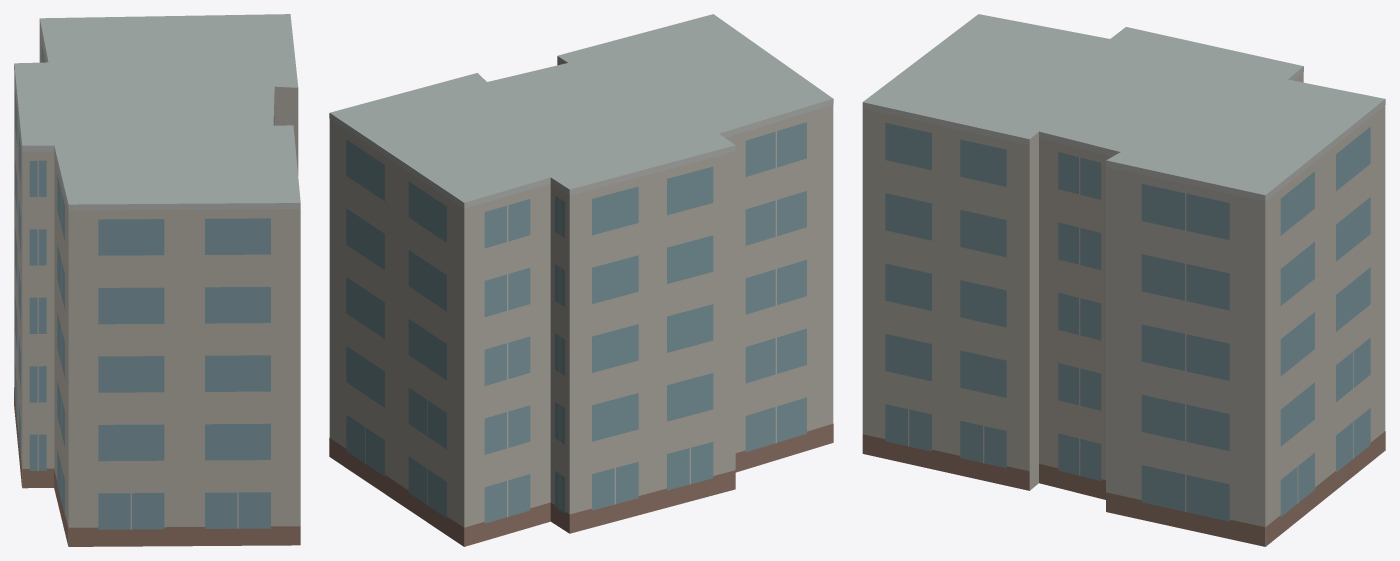
The model's file is survey-upis-32605890.glb.
3 renders of one model, left to right at view 1: azimuth 30°, elevation 25°; view 2: azimuth 150°, elevation 25°; view 3: azimuth 270°, elevation 25°, orthographic. The views are drawn at different scales.
Visible parts, largest first — view 1: survey-upis-32605890.tmp; view 2: survey-upis-32605890.tmp; view 3: survey-upis-32605890.tmp.
Boxes of the visible parts, x1,y1,x2,y2 form: survey-upis-32605890.tmp: [14, 14, 300, 546]; survey-upis-32605890.tmp: [329, 14, 833, 546]; survey-upis-32605890.tmp: [862, 14, 1385, 546].
Size of the model in its own units: 15.38 by 13.9 by 18.74.
